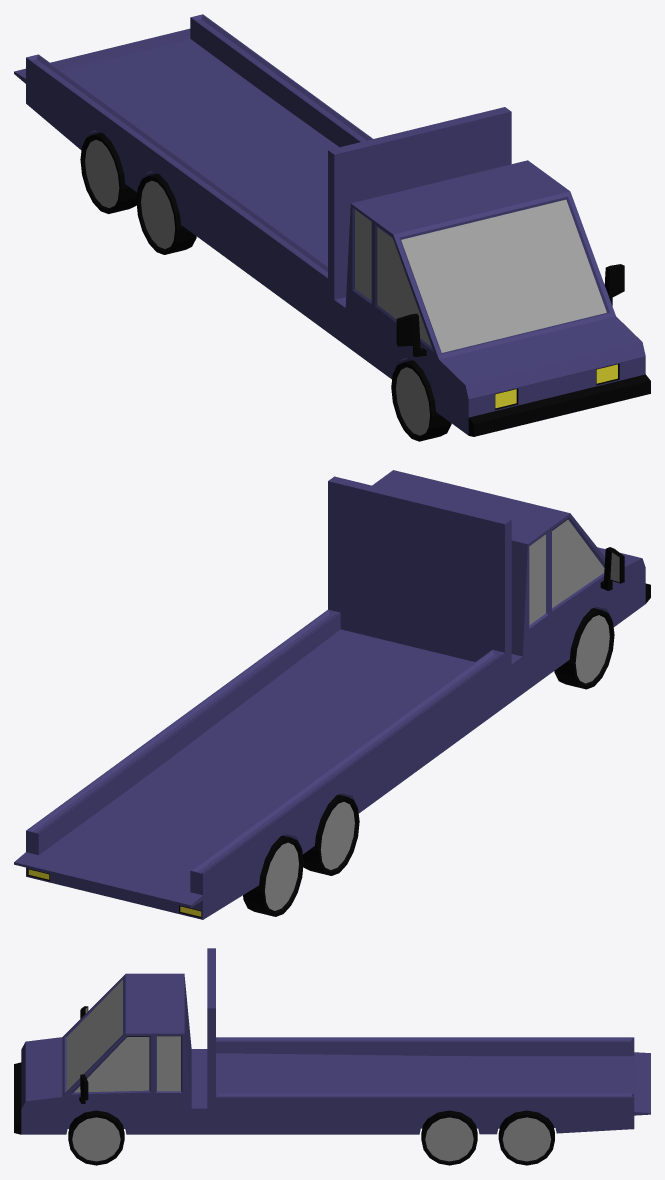
File: Flatback Truck 3.fbx
3 renders of one model, top to bottom at view 1: azimuth 30°, elevation 25°; view 2: azimuth 150°, elevation 25°; view 3: azimuth 270°, elevation 25°, orthographic. The views are drawn at different scales.
Visible parts, largest first — view 1: Flatback Truck Body.003, Wheel RR 1.003, Wheel FR.027, Wheel RR 2.003; view 2: Flatback Truck Body.003, Wheel RR 2.003, Wheel FR.027, Wheel RR 1.003; view 3: Flatback Truck Body.003, Wheel RL 1.003, Wheel FL.027, Wheel RL 2.003.
Boxes of the visible parts, x1,y1,x2,y2 form: Flatback Truck Body.003: (14,14,650,436); Wheel RR 1.003: (136,173,196,254); Wheel FR.027: (391,360,451,441); Wheel RR 2.003: (80,132,136,213); Flatback Truck Body.003: (14,470,650,919); Wheel RR 2.003: (243,835,303,916); Wheel FR.027: (554,608,614,689); Wheel RR 1.003: (303,794,359,875); Flatback Truck Body.003: (14,948,650,1134); Wheel RL 1.003: (421,1110,477,1165); Wheel FL.027: (68,1110,124,1165); Wheel RL 2.003: (498,1110,554,1165).
Size of the model in its own units: 2.42 by 2.3 by 8.53.
